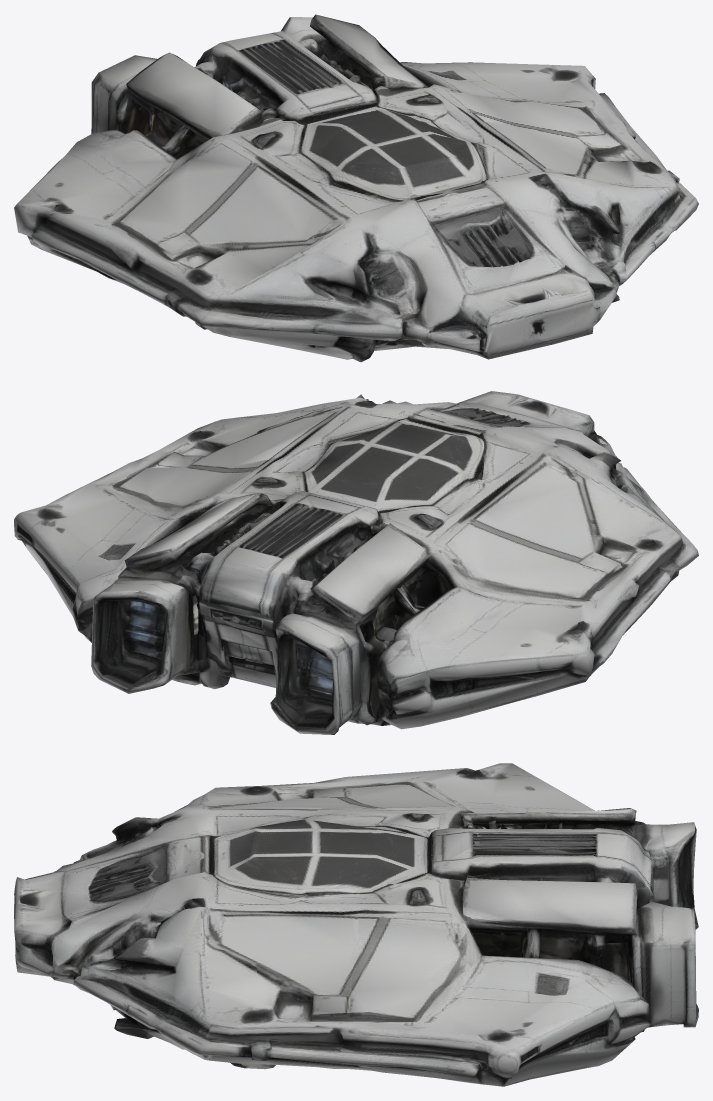
Rendered from human_light_lod1.glb.
The picture shows the model from 3 angles, top to bottom: view 1: azimuth 30°, elevation 25°; view 2: azimuth 150°, elevation 25°; view 3: azimuth 270°, elevation 25°; orthographic projection. The views are drawn at different scales.
Size of the model in its own units: 2 by 0.5324 by 1.99.
1 material, 1 textured.
